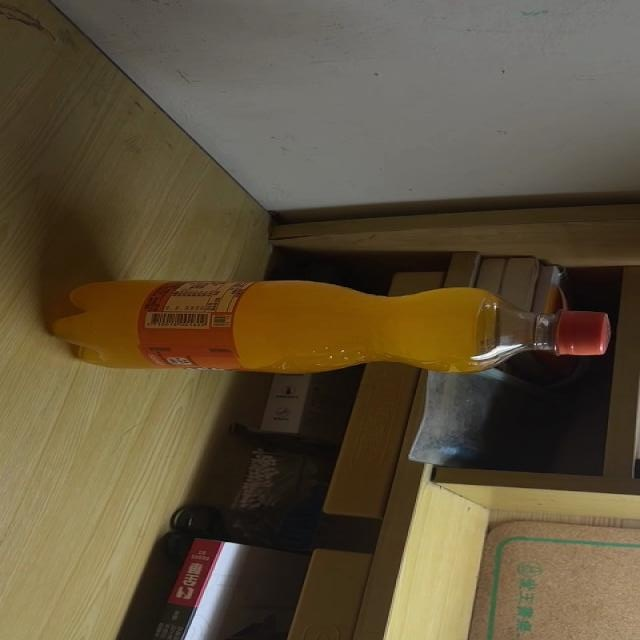Fanta: (48, 279, 610, 373)
